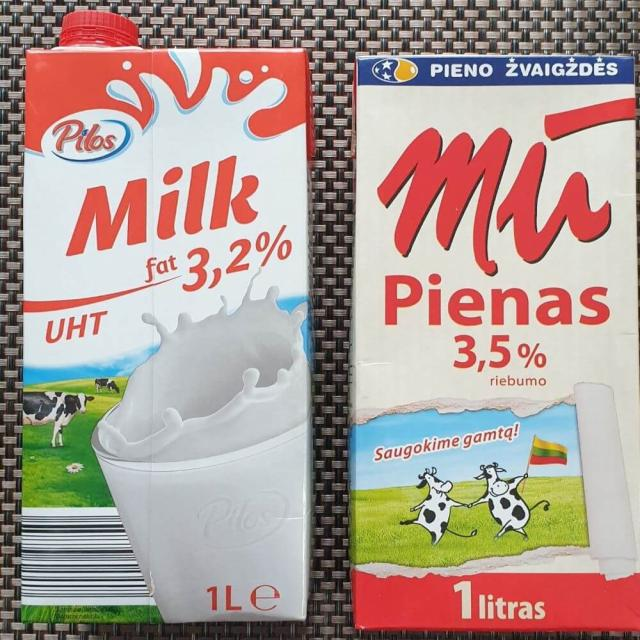milk: (17, 12, 318, 628), (352, 43, 640, 632)
